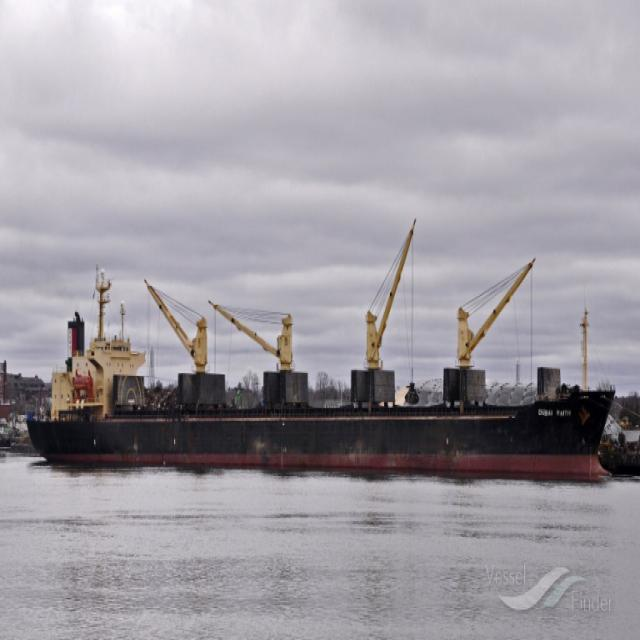OCR: (538, 399, 577, 424)
